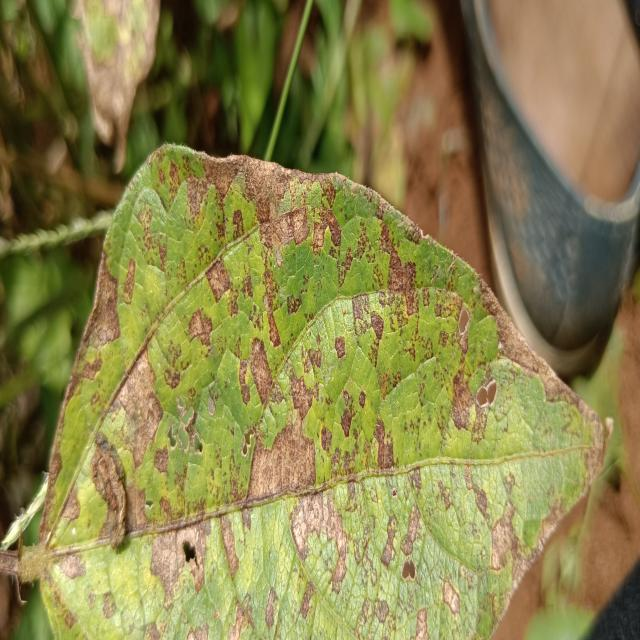Black gram_leaf spot: (35, 124, 621, 640)
